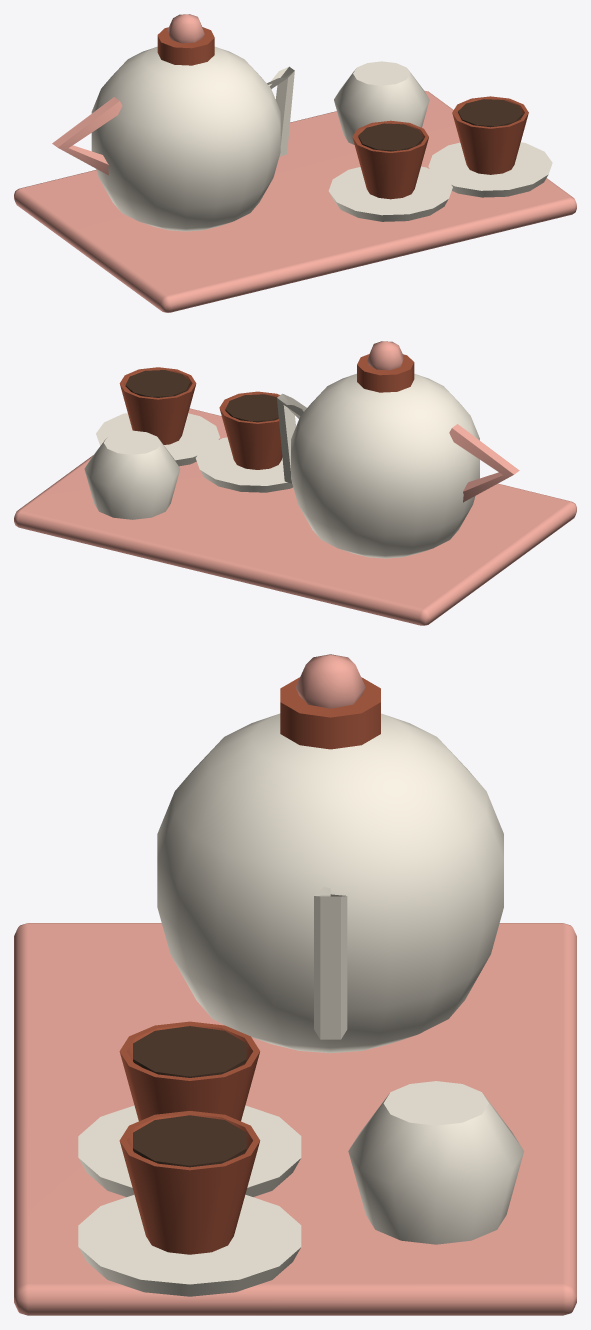
File: coffee_set_tray.glb
3 renders of one model, top to bottom at view 1: azimuth 30°, elevation 25°; view 2: azimuth 150°, elevation 25°; view 3: azimuth 270°, elevation 25°, orthographic. The views are drawn at different scales.
Visible parts, largest first — view 1: coffee_set_tray; view 2: coffee_set_tray; view 3: coffee_set_tray.
Part boxes in pixels (left/top/right/bottom): coffee_set_tray: left=14, top=14, right=576, bottom=312; coffee_set_tray: left=14, top=341, right=576, bottom=625; coffee_set_tray: left=14, top=654, right=576, bottom=1315.
Size of the model in its own units: 0.543 by 0.245 by 0.32.
